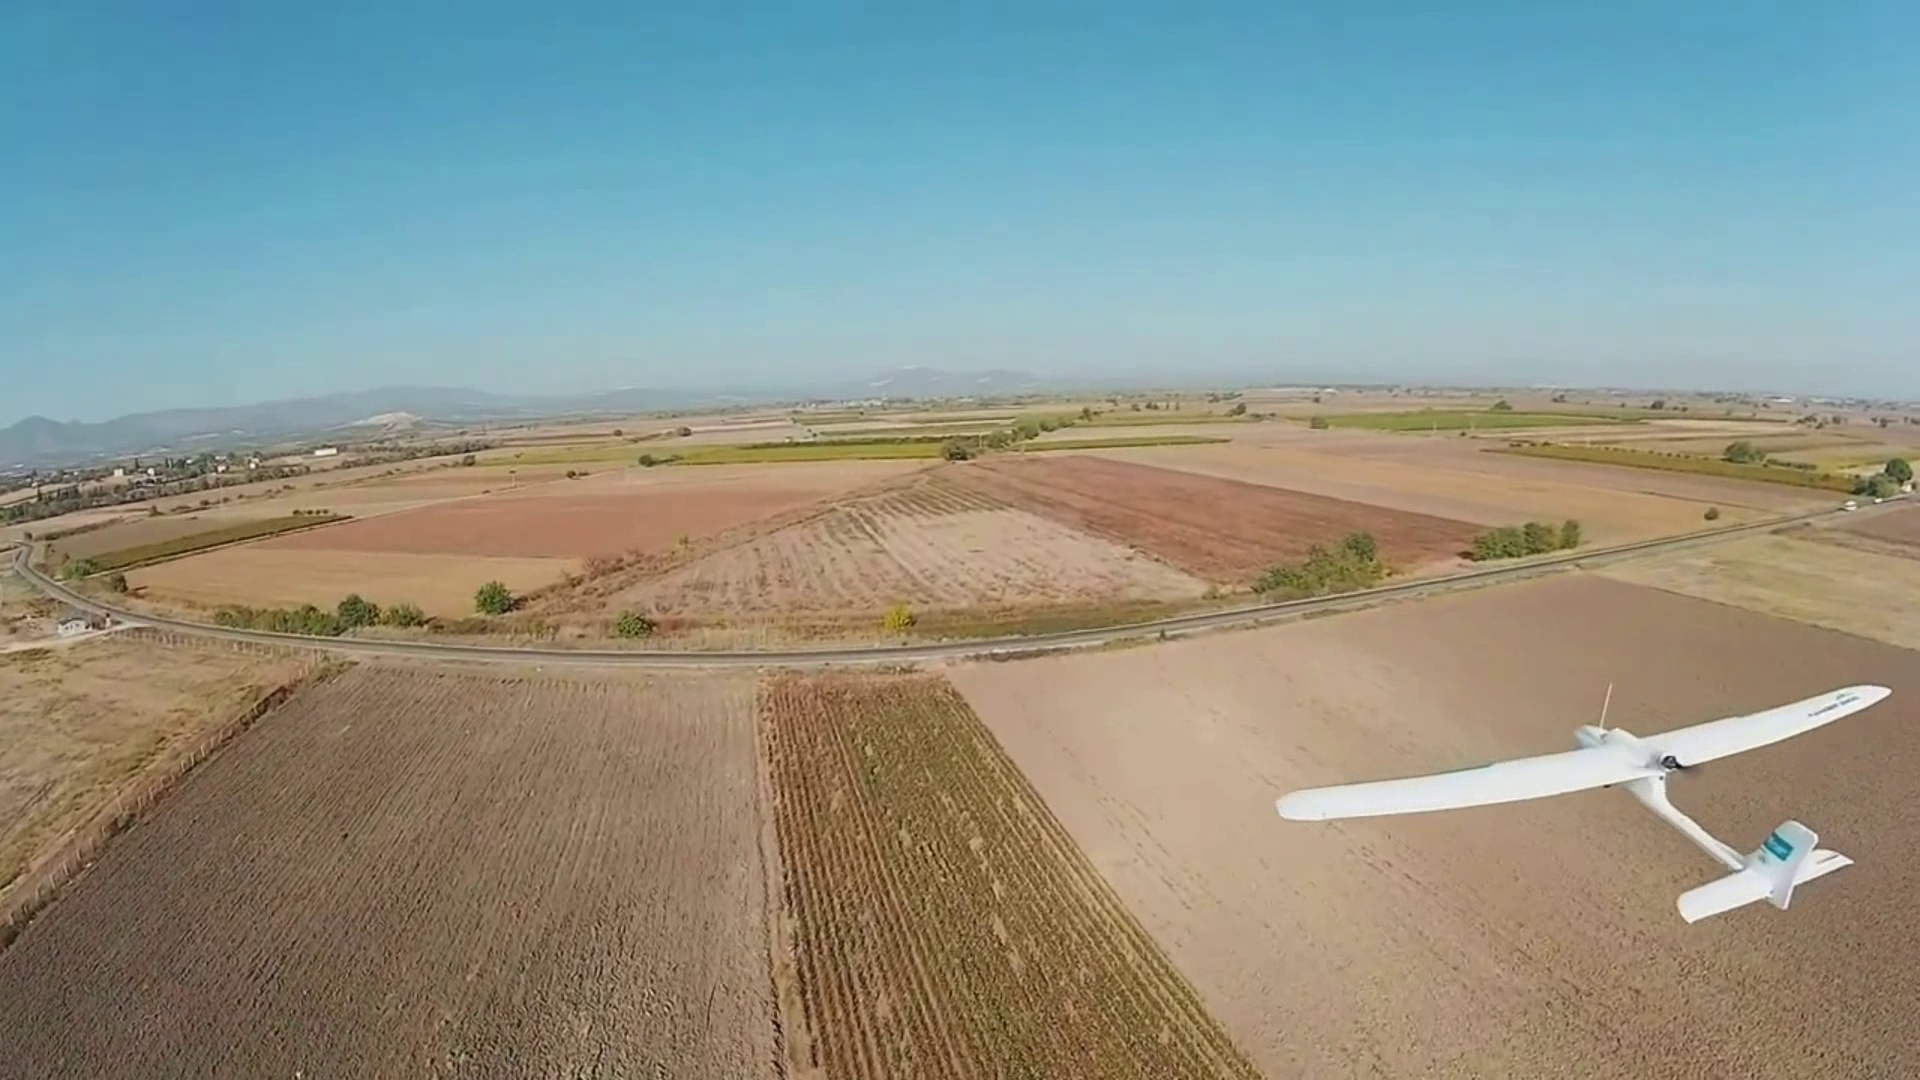airplane: (1279, 679, 1894, 923)
